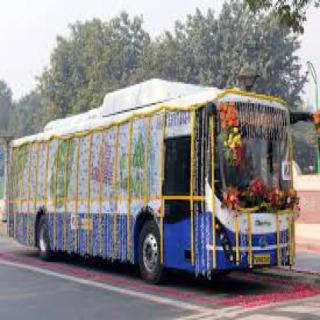Normal_vehicle: (8, 71, 310, 292)
